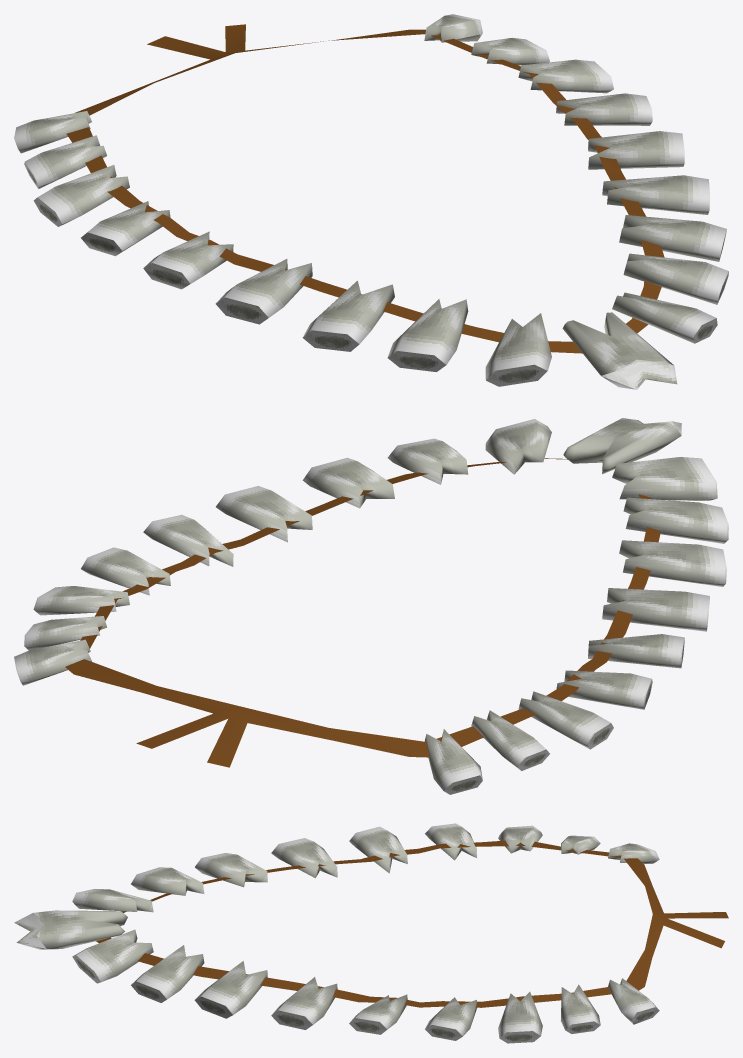
Rendered from Necklace_Teeth_Ground.fbx.
3 renders of one model, top to bottom at view 1: azimuth 30°, elevation 25°; view 2: azimuth 150°, elevation 25°; view 3: azimuth 270°, elevation 25°, orthographic. The views are drawn at different scales.
Visible parts, largest first — view 1: Necklace_Teeth_Ground; view 2: Necklace_Teeth_Ground; view 3: Necklace_Teeth_Ground.
Boxes of the visible parts, <box> form: Necklace_Teeth_Ground: <box>14,14,728,389</box>; Necklace_Teeth_Ground: <box>14,418,728,794</box>; Necklace_Teeth_Ground: <box>14,823,728,1043</box>.
Size of the model in its own units: 0.8951 by 0.0632 by 1.3.
